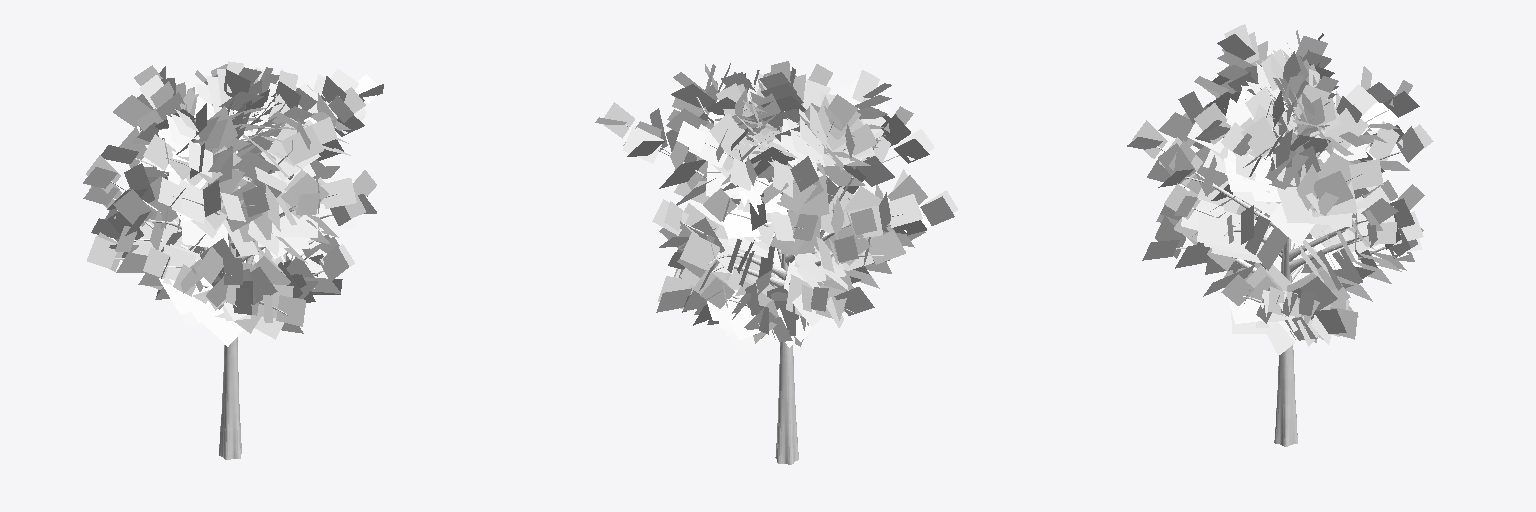
File: tree3.obj
3 renders of one model, left to right at view 1: azimuth 30°, elevation 25°; view 2: azimuth 150°, elevation 25°; view 3: azimuth 270°, elevation 25°, orthographic.
Visible parts, largest first — view 1: tree; view 2: tree; view 3: tree.
Part boxes in pixels (left/top/right/bottom): tree: left=83, top=61, right=383, bottom=459; tree: left=595, top=61, right=957, bottom=464; tree: left=1127, top=24, right=1433, bottom=446.
Size of the model in its own units: 478 by 596 by 423.